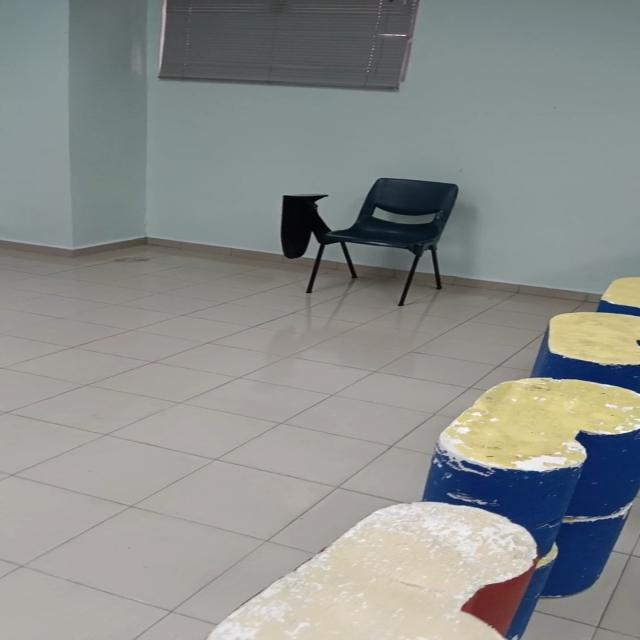sandalye: (306, 178, 458, 306)
